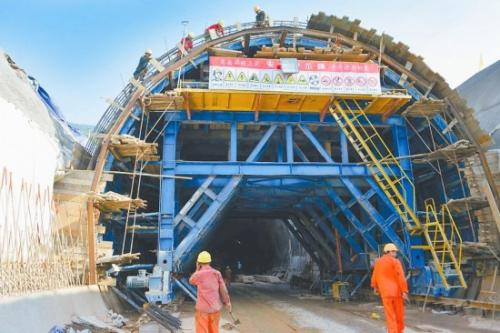hard-hat: (196, 251, 212, 263), (383, 242, 398, 251)
person: (370, 243, 410, 333), (188, 251, 231, 333)
ppe-suit: (370, 255, 410, 333), (188, 264, 228, 331)
